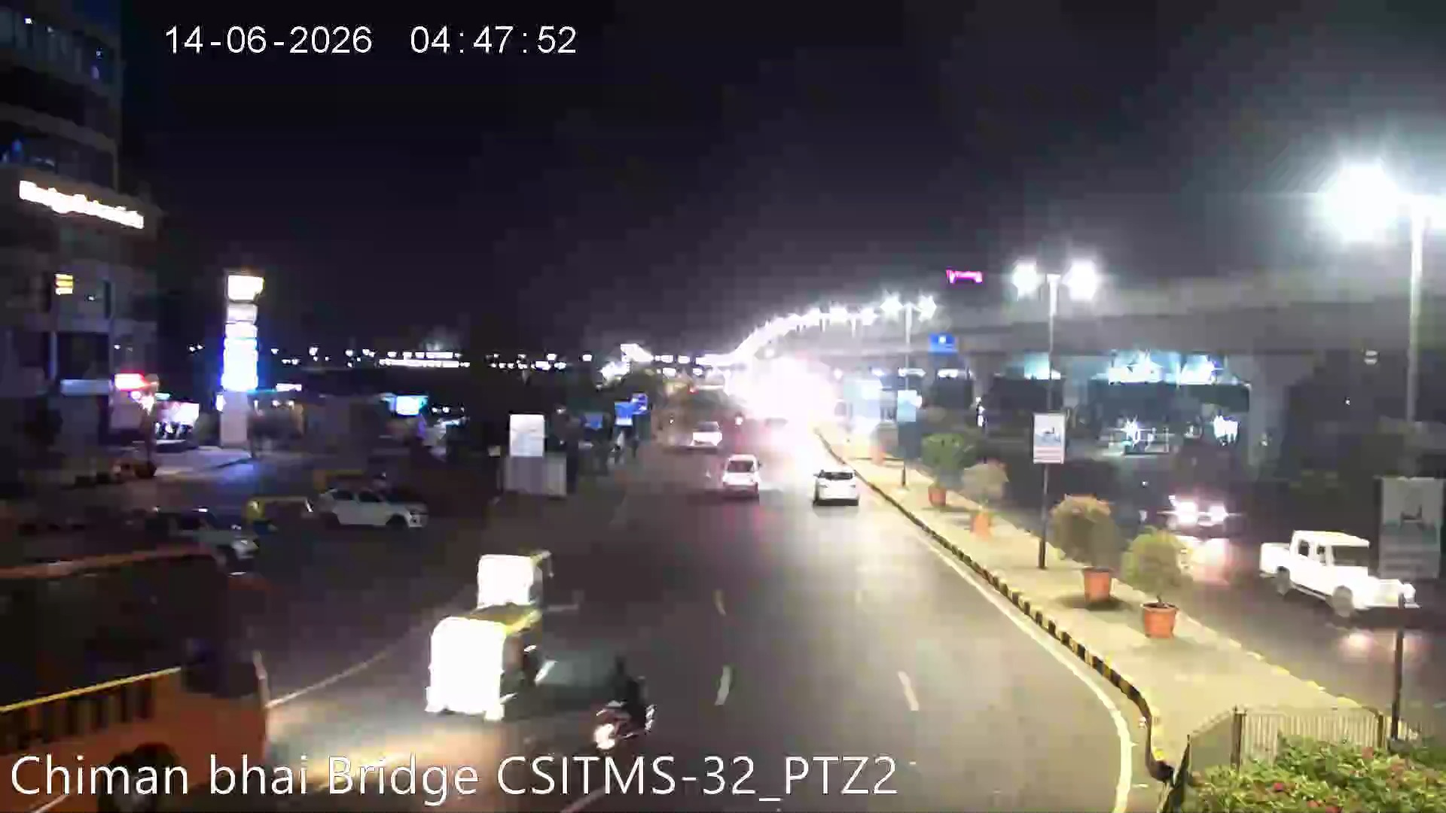auto_rickshaw: (416, 602, 551, 714)
bus: (1, 522, 299, 812)
car: (1254, 526, 1421, 615), (131, 499, 267, 580), (308, 477, 430, 534), (1163, 485, 1233, 539), (810, 462, 866, 510), (718, 450, 762, 499), (690, 420, 723, 448)
truck: (1257, 524, 1412, 613)
two_wheeler: (586, 654, 662, 755)
